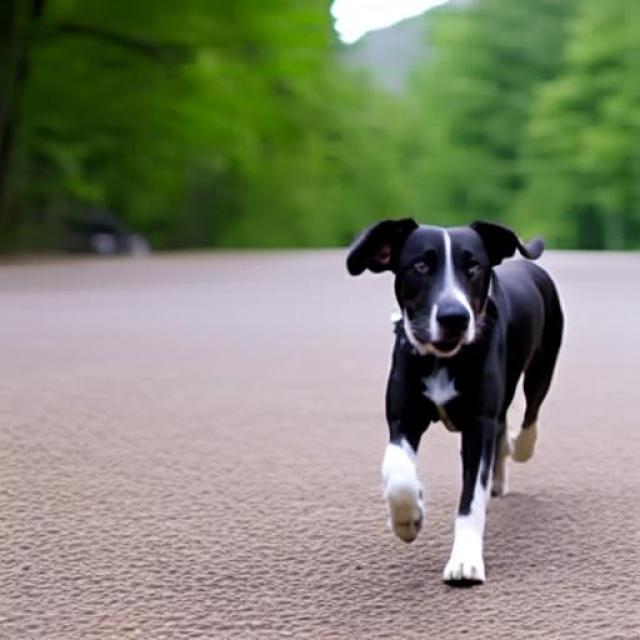Dog: (346, 217, 565, 587)
